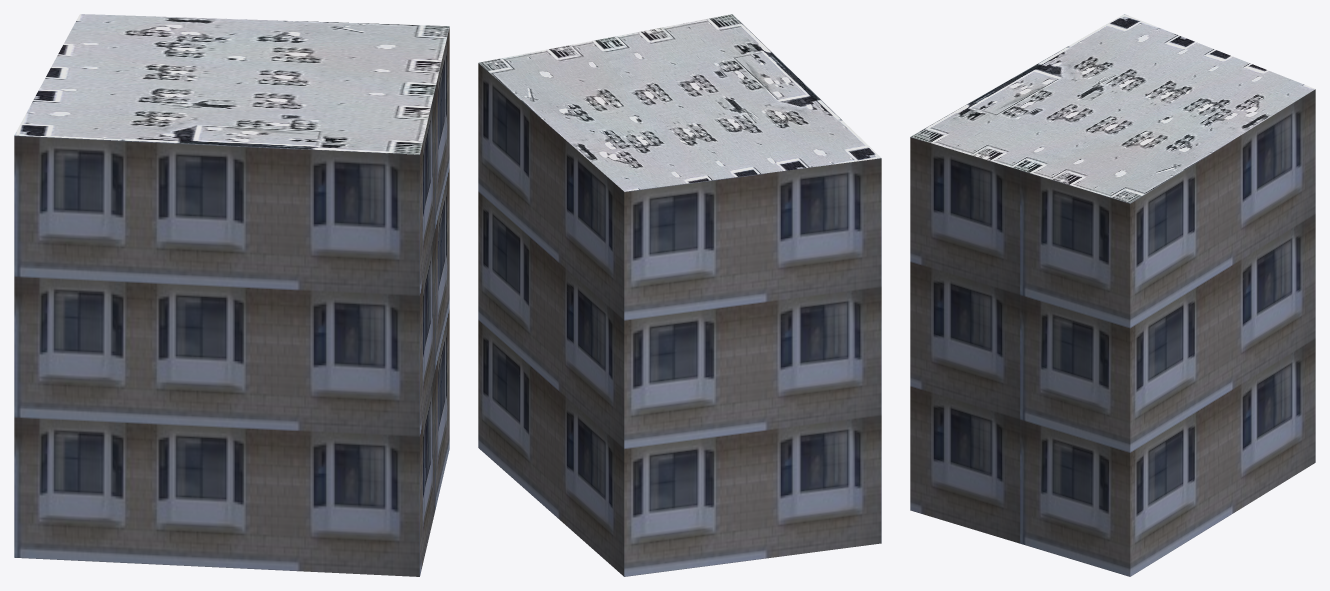
The model's file is ResTex__4274.fbx.
The picture shows the model from 3 angles, left to right: view 1: azimuth 30°, elevation 25°; view 2: azimuth 150°, elevation 25°; view 3: azimuth 270°, elevation 25°; orthographic projection. The views are drawn at different scales.
Parts seen in each view (by area): view 1: CityEngineMaterial_3_m, CityEngineMaterial_m; view 2: CityEngineMaterial_3_m, CityEngineMaterial_m; view 3: CityEngineMaterial_3_m, CityEngineMaterial_m.
Boxes of the visible parts, bbox=[...] form: CityEngineMaterial_3_m: bbox=[14, 27, 449, 576]; CityEngineMaterial_m: bbox=[14, 14, 449, 154]; CityEngineMaterial_3_m: bbox=[478, 63, 881, 576]; CityEngineMaterial_m: bbox=[478, 14, 881, 191]; CityEngineMaterial_3_m: bbox=[910, 89, 1315, 576]; CityEngineMaterial_m: bbox=[910, 14, 1315, 203].
Bounding box in the file's own units: 9.79 × 9 × 8.86.
Materials: 2 (2 with a texture image).
